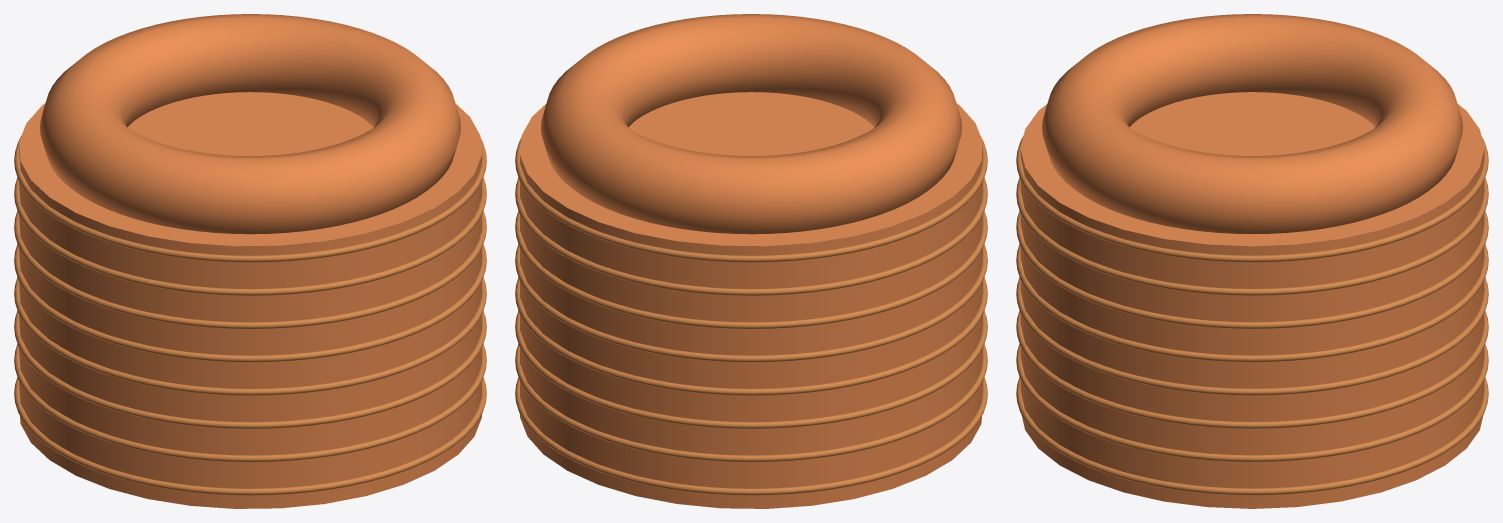
File: printer-prototype.glb
3 views of the same model, side by side, from view 1: azimuth 30°, elevation 25°; view 2: azimuth 150°, elevation 25°; view 3: azimuth 270°, elevation 25° (orthographic).
Parts seen in each view (by area): view 1: printer-prototype; view 2: printer-prototype; view 3: printer-prototype.
Part boxes in pixels (<box>): printer-prototype: <box>14,14,486,508</box>; printer-prototype: <box>515,14,987,508</box>; printer-prototype: <box>1016,14,1488,508</box>.
Size of the model in its own units: 0.2446 by 0.184 by 0.2446.
